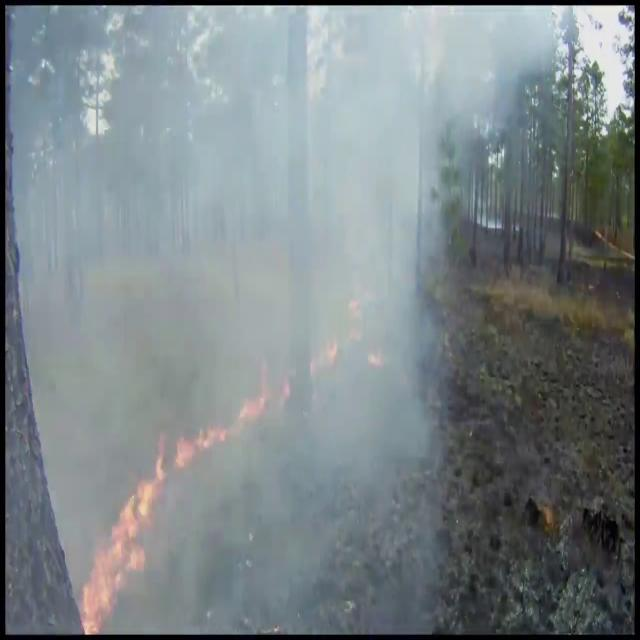Fire: (78, 432, 166, 634)
Smoke: (66, 8, 474, 634)
